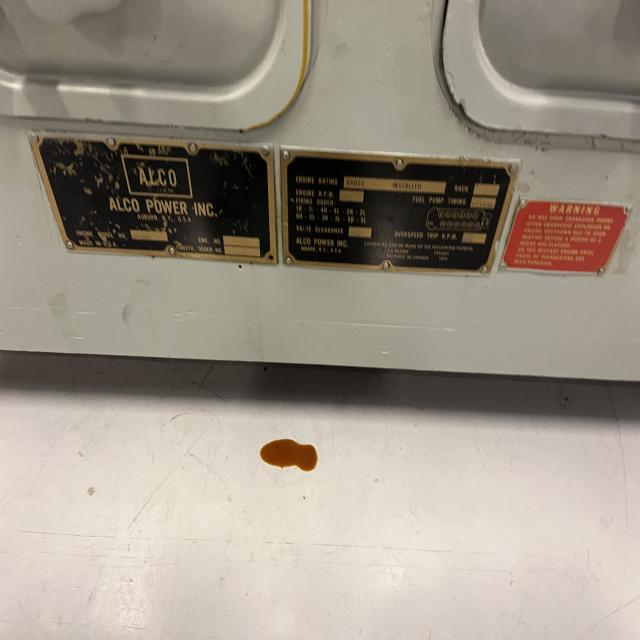Oil Leak: (249, 0, 310, 129), (260, 439, 317, 471)
